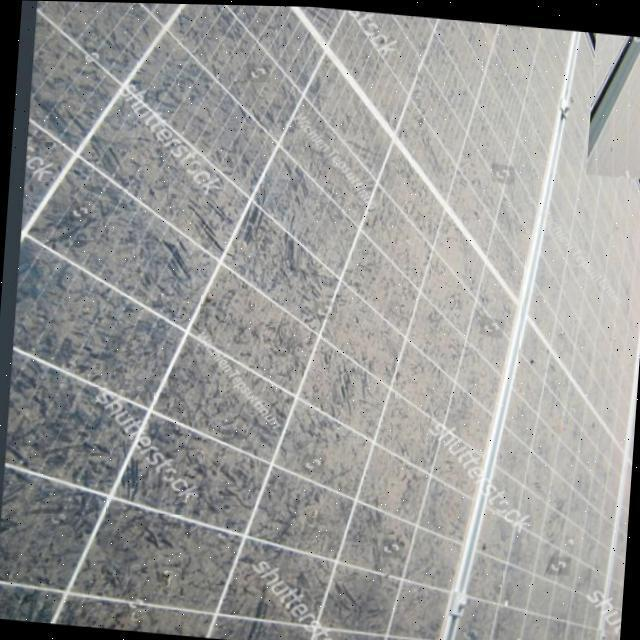Surface Contaminant: (0, 1, 640, 640), (586, 29, 640, 175)
